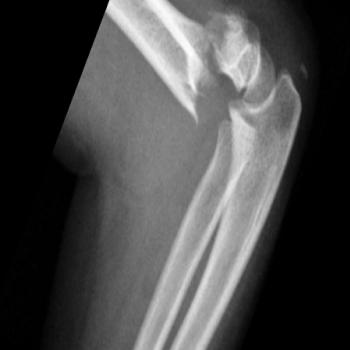Fracture: (176, 65, 244, 137)
